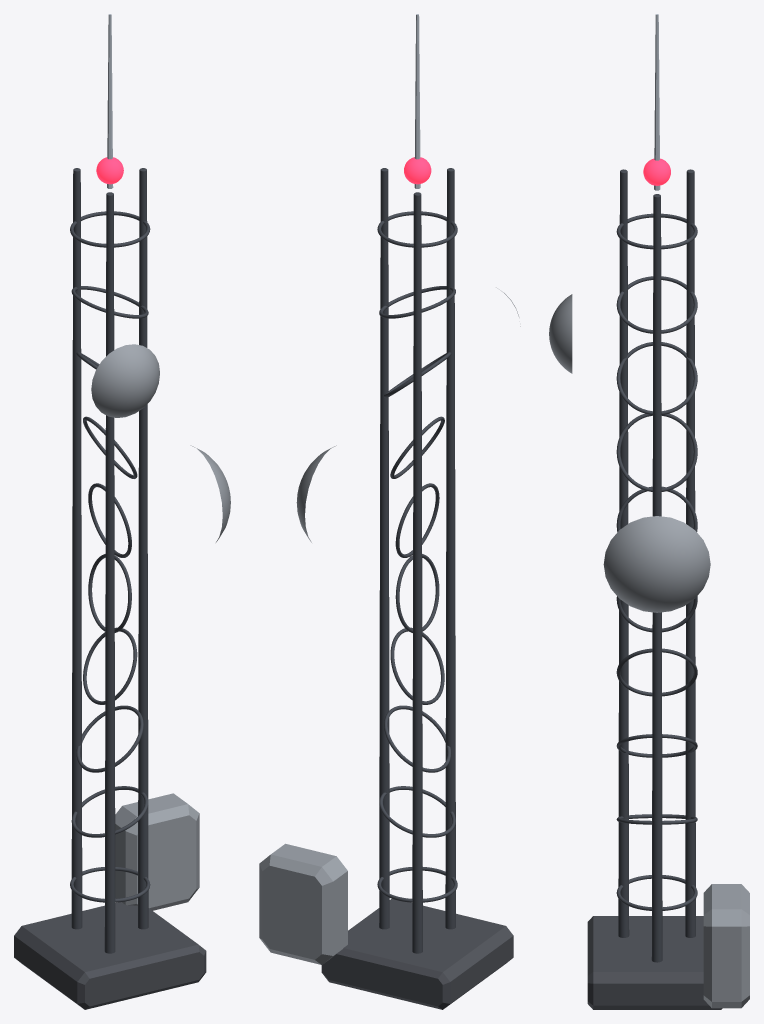
Rendered from spire_antenna.glb.
3 views of the same model, side by side, from view 1: azimuth 30°, elevation 25°; view 2: azimuth 150°, elevation 25°; view 3: azimuth 270°, elevation 25° (orthographic).
Visible parts, largest first — view 1: antenna_plinth, antenna_cabinet, antenna_chord2, antenna_chord1, antenna_chord0, antenna_dish_b, antenna_whip, antenna_lace4, antenna_lace2, antenna_lace3, antenna_dish_a, antenna_lace1 (+6 smaller); view 2: antenna_plinth, antenna_cabinet, antenna_chord2, antenna_chord1, antenna_chord0, antenna_whip, antenna_lace3, antenna_lace2, antenna_lace4, antenna_dish_a, antenna_lace9, antenna_lace1 (+4 smaller); view 3: antenna_plinth, antenna_dish_a, antenna_chord0, antenna_chord2, antenna_chord1, antenna_cabinet, antenna_dish_b, antenna_lace6, antenna_lace7, antenna_lace8, antenna_lace3, antenna_whip (+6 smaller).
Boxes of the visible parts, left/top/right/bottom form: antenna_plinth: left=14, top=902, right=206, bottom=1009; antenna_cabinet: left=115, top=793, right=199, bottom=910; antenna_chord2: left=71, top=168, right=82, bottom=929; antenna_chord1: left=104, top=192, right=115, bottom=953; antenna_chord0: left=138, top=168, right=148, bottom=929; antenna_dish_b: left=91, top=344, right=159, bottom=417; antenna_whip: left=107, top=14, right=113, bottom=188; antenna_lace4: left=88, top=554, right=131, bottom=632; antenna_lace2: left=76, top=705, right=143, bottom=772; antenna_lace3: left=83, top=627, right=137, bottom=704; antenna_dish_a: left=190, top=445, right=230, bottom=542; antenna_lace1: left=71, top=786, right=148, bottom=837; antenna_plinth: left=321, top=899, right=513, bottom=1009; antenna_cabinet: left=259, top=843, right=347, bottom=964; antenna_chord2: left=412, top=192, right=422, bottom=953; antenna_chord1: left=445, top=168, right=455, bottom=929; antenna_chord0: left=379, top=168, right=389, bottom=929; antenna_whip: left=414, top=14, right=420, bottom=188; antenna_lace3: left=390, top=627, right=444, bottom=704; antenna_lace2: left=384, top=705, right=451, bottom=772; antenna_lace4: left=395, top=554, right=439, bottom=632; antenna_dish_a: left=296, top=445, right=336, bottom=542; antenna_lace9: left=377, top=211, right=457, bottom=247; antenna_lace1: left=379, top=786, right=455, bottom=837; antenna_plinth: left=587, top=916, right=722, bottom=1009; antenna_dish_a: left=603, top=516, right=710, bottom=612; antenna_chord0: left=651, top=194, right=662, bottom=962; antenna_chord2: left=685, top=169, right=695, bottom=937; antenna_chord1: left=618, top=169, right=629, bottom=937; antenna_cabinet: left=703, top=884, right=749, bottom=1008; antenna_dish_b: left=549, top=294, right=572, bottom=373; antenna_lace6: left=616, top=413, right=697, bottom=491; antenna_lace7: left=616, top=342, right=697, bottom=414; antenna_lace8: left=616, top=276, right=697, bottom=333; antenna_lace3: left=616, top=648, right=697, bottom=696; antenna_whip: left=654, top=14, right=660, bottom=190.
Size of the model in its own units: 2.73 by 13.82 by 2.6.
